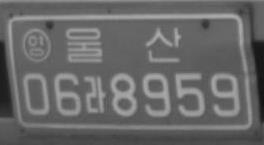0: (21, 71, 50, 116)
5: (174, 71, 205, 118)
6: (53, 71, 82, 116)
8: (109, 72, 138, 117)
9: (209, 71, 240, 118), (141, 71, 171, 118)
라: (82, 74, 106, 113)
영: (21, 27, 51, 62)
울산_D: (64, 25, 182, 64)
